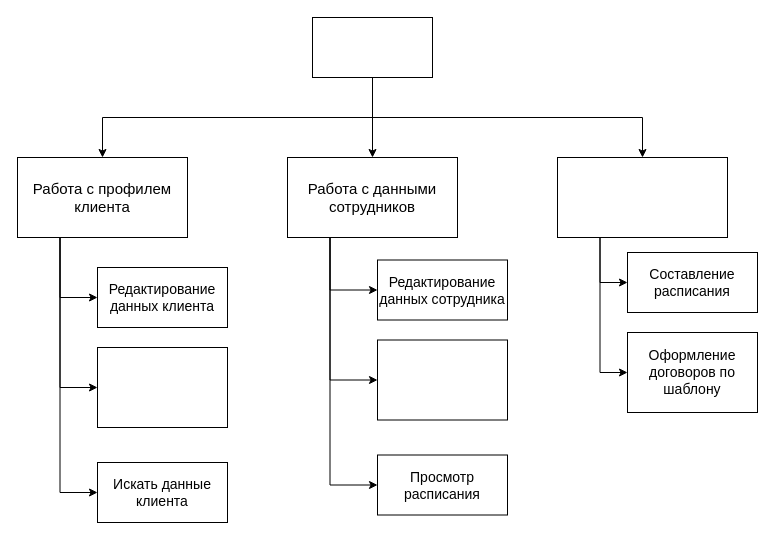
The diagram is 775 pixels wide and 540 high, and some of its shapes have lost their labels. The centre of each missing label's shape, as x and y in pixels:
"Назначение группы тренеру" goes at point 442,379.
"Просмотр/редактирование справок, квитанций об оплате" goes at point 162,387.
"Работа с документами" goes at point 642,197.
"Функции ИС" goes at point 372,47.
